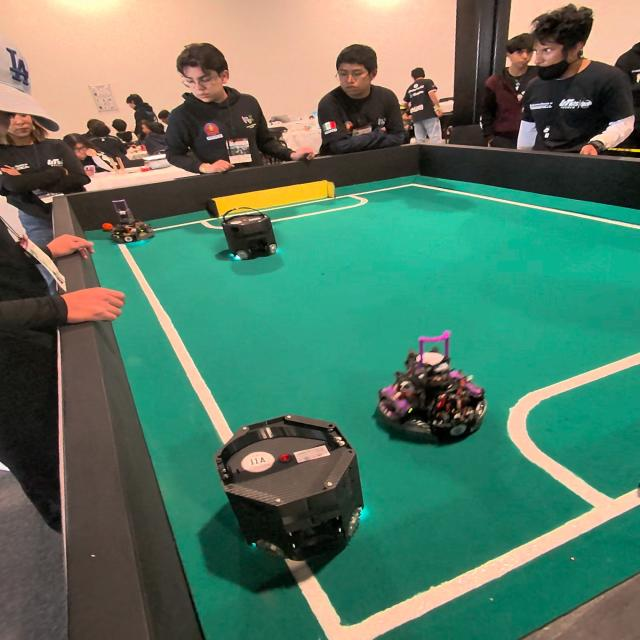Robot: (200, 396, 388, 573), (377, 345, 488, 450), (220, 202, 290, 276), (104, 197, 155, 247)
pelota: (99, 220, 115, 232)
